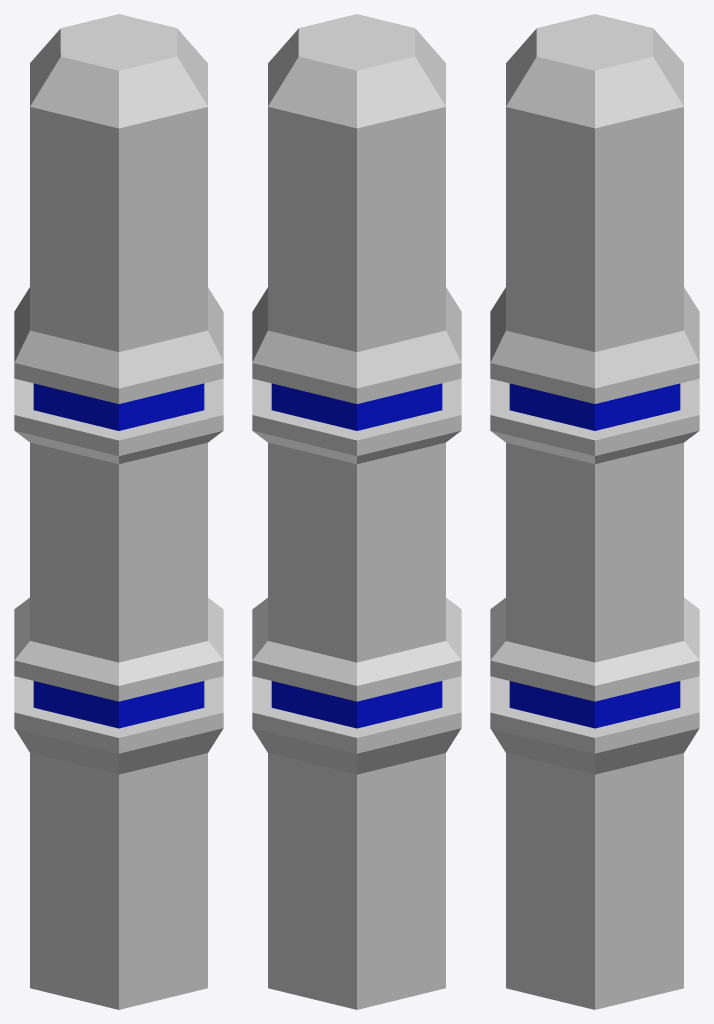
Rendered from FortressWallCorner.fbx.
3 renders of one model, left to right at view 1: azimuth 30°, elevation 25°; view 2: azimuth 150°, elevation 25°; view 3: azimuth 270°, elevation 25°, orthographic.
Visible parts, largest first — view 1: FortressWallCornerMesh; view 2: FortressWallCornerMesh; view 3: FortressWallCornerMesh.
Part boxes in pixels (x1,y1,x2,y2): FortressWallCornerMesh: [14, 14, 223, 1009]; FortressWallCornerMesh: [252, 14, 461, 1009]; FortressWallCornerMesh: [490, 14, 699, 1009].
Bounding box in the file's own units: 442 × 1864 × 383.
